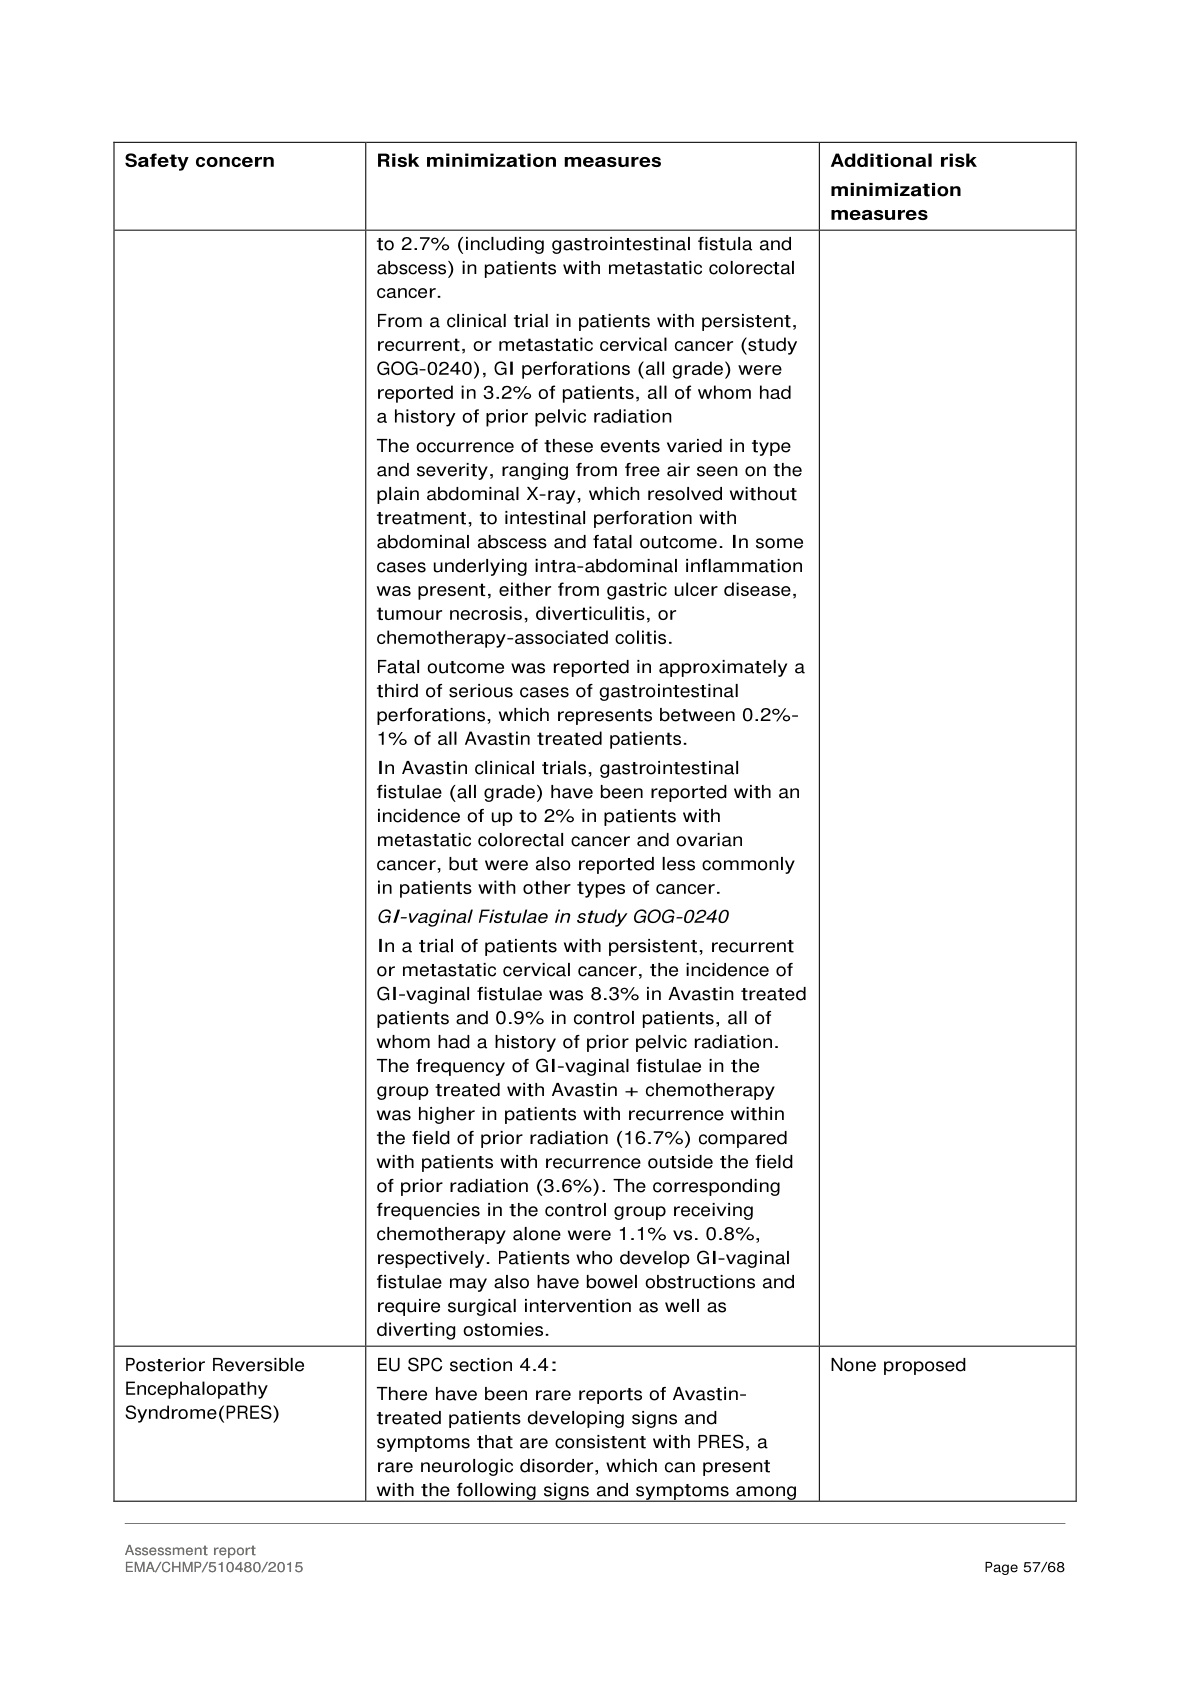full_lined: (112, 139, 1078, 1504)
